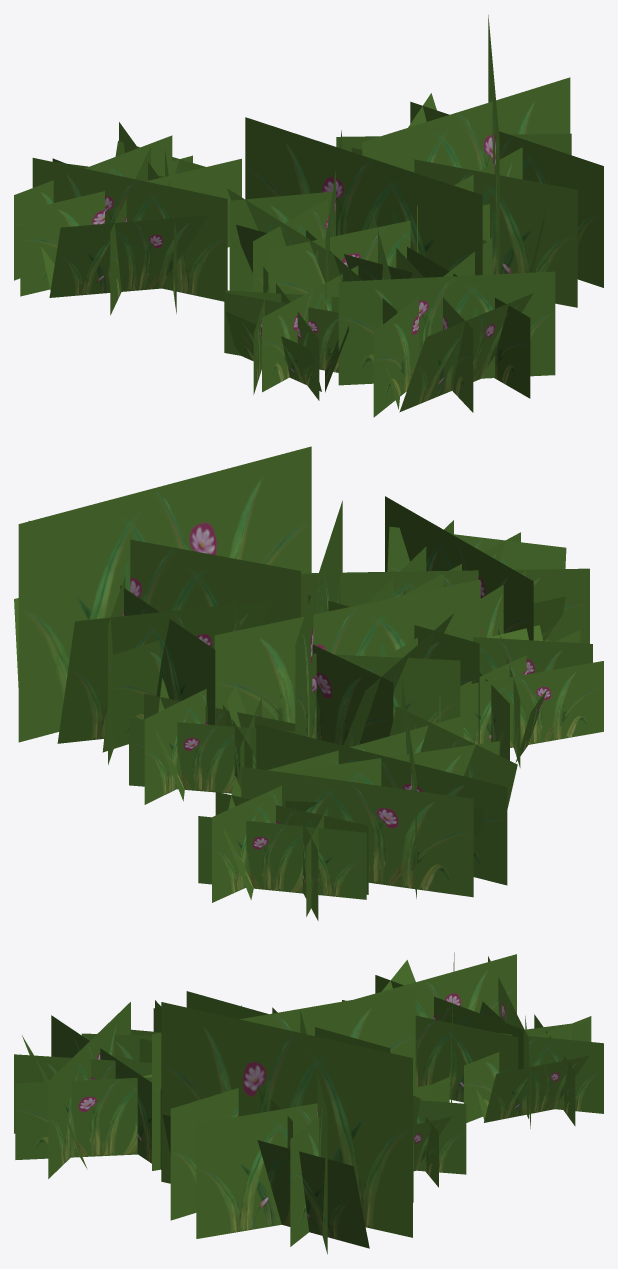
File: kuanyecao_40.FBX
3 renders of one model, top to bottom at view 1: azimuth 30°, elevation 25°; view 2: azimuth 150°, elevation 25°; view 3: azimuth 270°, elevation 25°, orthographic. The views are drawn at different scales.
Parts seen in each view (by area): view 1: kuanyecao_40; view 2: kuanyecao_40; view 3: kuanyecao_40.
Boxes of the visible parts, x1,y1,x2,y2 form: kuanyecao_40: (14,15,603,417); kuanyecao_40: (14,446,603,920); kuanyecao_40: (14,952,603,1254).
Bounding box in the file's own units: 475 × 179 × 531.
